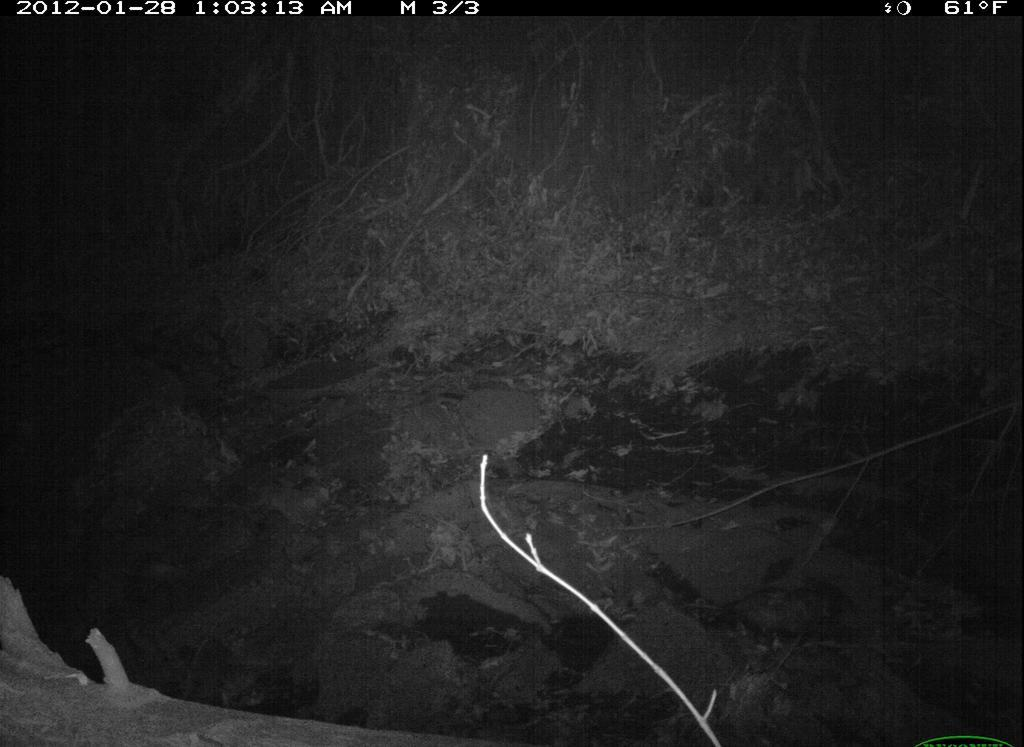opossum: (675, 575, 857, 652)
